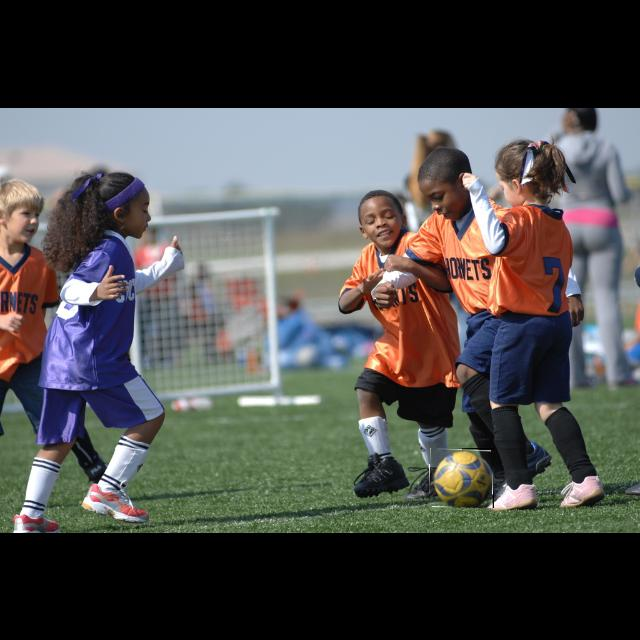Football: (430, 448, 494, 508)
